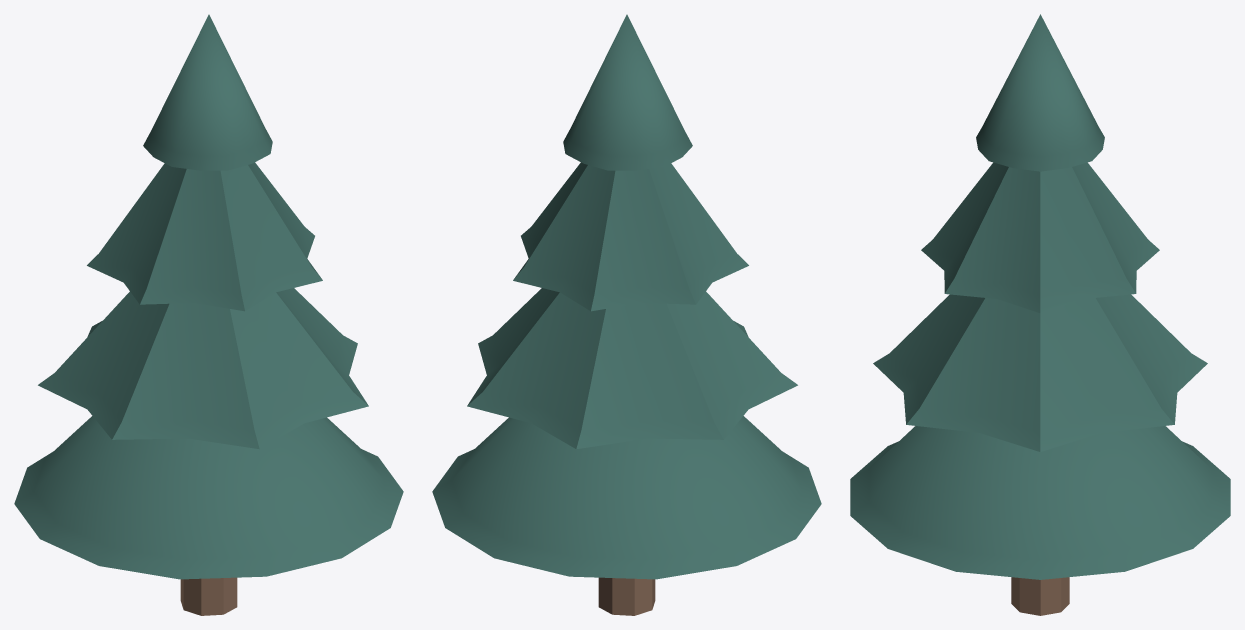
The model's file is Pine_A.fbx.
3 renders of one model, left to right at view 1: azimuth 30°, elevation 25°; view 2: azimuth 150°, elevation 25°; view 3: azimuth 270°, elevation 25°, orthographic.
Visible parts, largest first — view 1: Pine_A; view 2: Pine_A; view 3: Pine_A.
Boxes of the visible parts, x1,y1,x2,y2 form: Pine_A: (14,14,403,615); Pine_A: (432,14,821,615); Pine_A: (850,14,1230,615).
Bounding box in the file's own units: 12 × 20 × 11.7.
